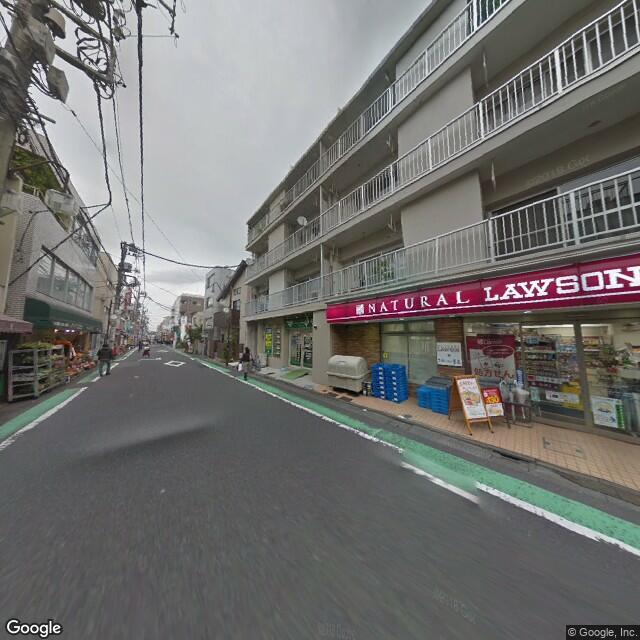lawson: (328, 255, 639, 322)
